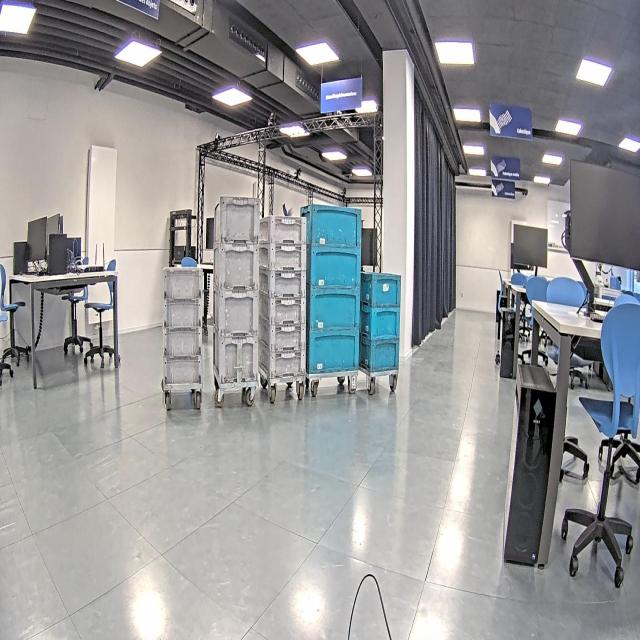Box3G: (258, 214, 307, 381)
Box4G: (212, 194, 261, 384)
Box8G: (162, 265, 204, 387)
BoxB4: (299, 203, 362, 377)
BoxB8: (358, 271, 402, 374)
